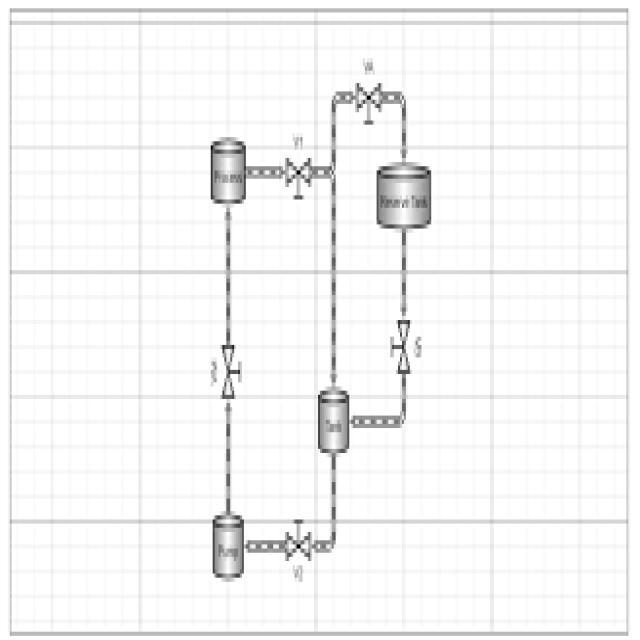Hand Operated Gate Valve: (284, 147, 316, 215), (279, 510, 315, 570), (216, 336, 244, 406), (390, 314, 418, 382)
